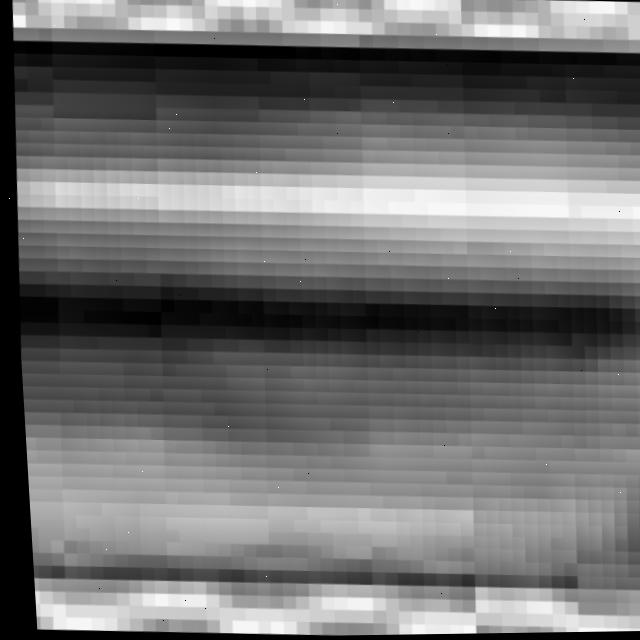metal: (0, 0, 640, 612)
